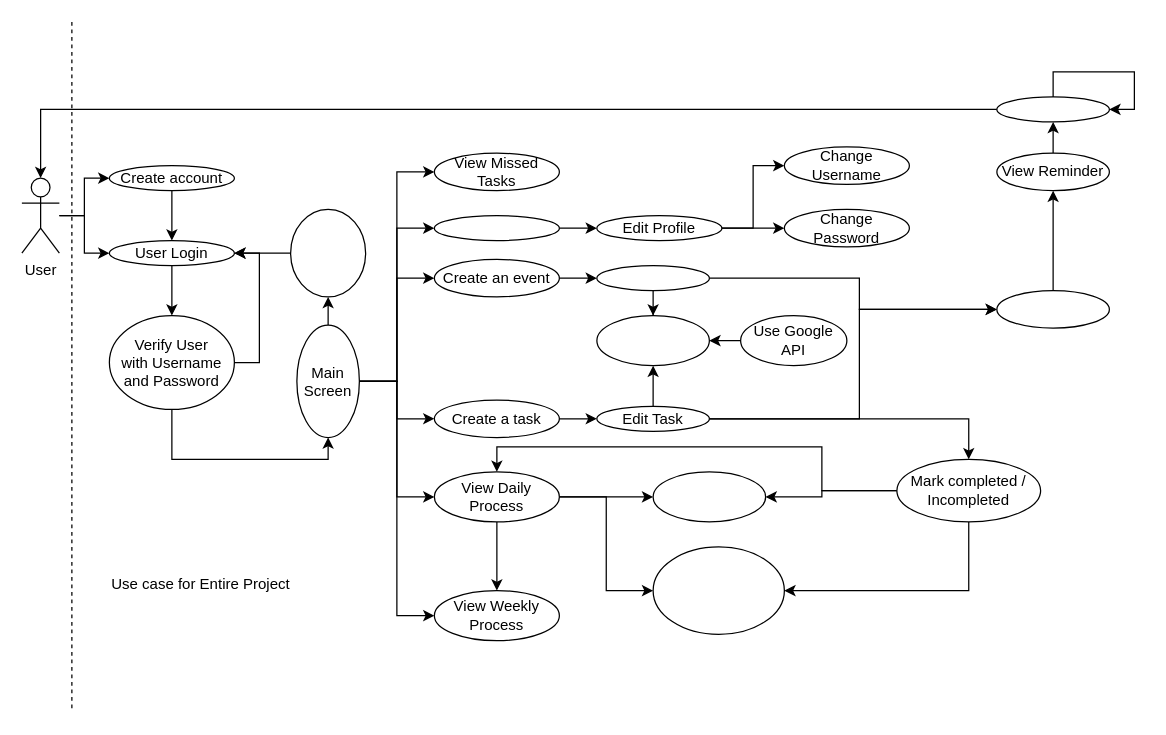
Image size: 1166x735. Some labels were removed from this diagram. Each missing label, with the centre of its shape:
"Add / Change Location" belongs at (x=652, y=340).
"Add Reminder" belongs at (x=1052, y=308).
"Edit Event" belongs at (x=652, y=277).
"Logout after 1 minute inactive" belongs at (x=327, y=252).
"Send reminder" belongs at (x=1052, y=109).
"Track completion percentage" belongs at (x=718, y=590).
"View Daily Routine" belongs at (x=709, y=496).
"View Profile" belongs at (x=496, y=227).
